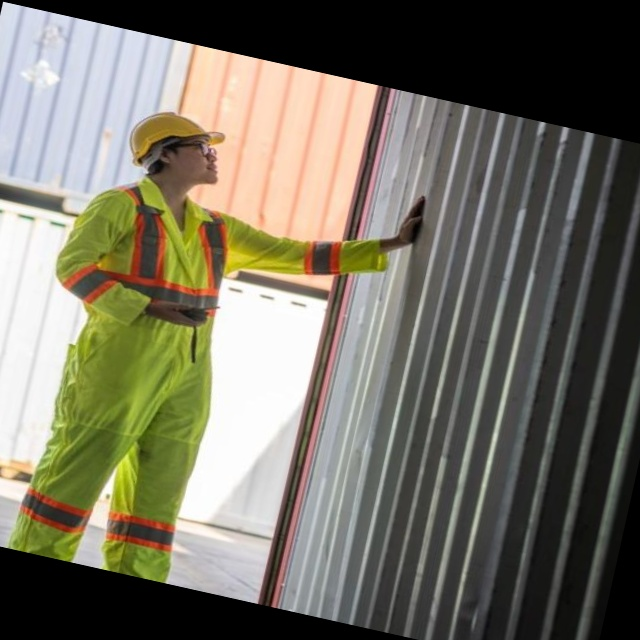Con_Casco: (121, 104, 234, 195)
Con_Chaleco: (68, 169, 243, 346)
